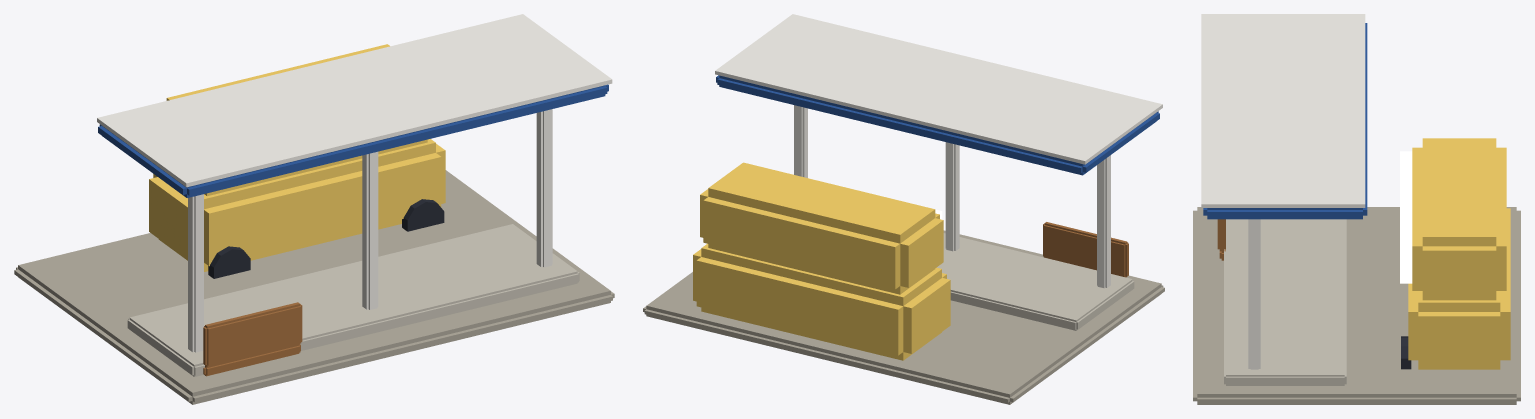
File: busstation.glb
The picture shows the model from 3 angles, left to right: view 1: azimuth 30°, elevation 25°; view 2: azimuth 150°, elevation 25°; view 3: azimuth 270°, elevation 25°; orthographic projection. The views are drawn at different scales.
Parts seen in each view (by area): view 1: busstation; view 2: busstation; view 3: busstation.
Part boxes in pixels (x1=…): busstation: x1=14, y1=14, x2=614, y2=404; busstation: x1=643, y1=14, x2=1164, y2=404; busstation: x1=1193, y1=14, x2=1520, y2=404.
Bounding box in the file's own units: 2.2 × 1.11 × 1.6.
